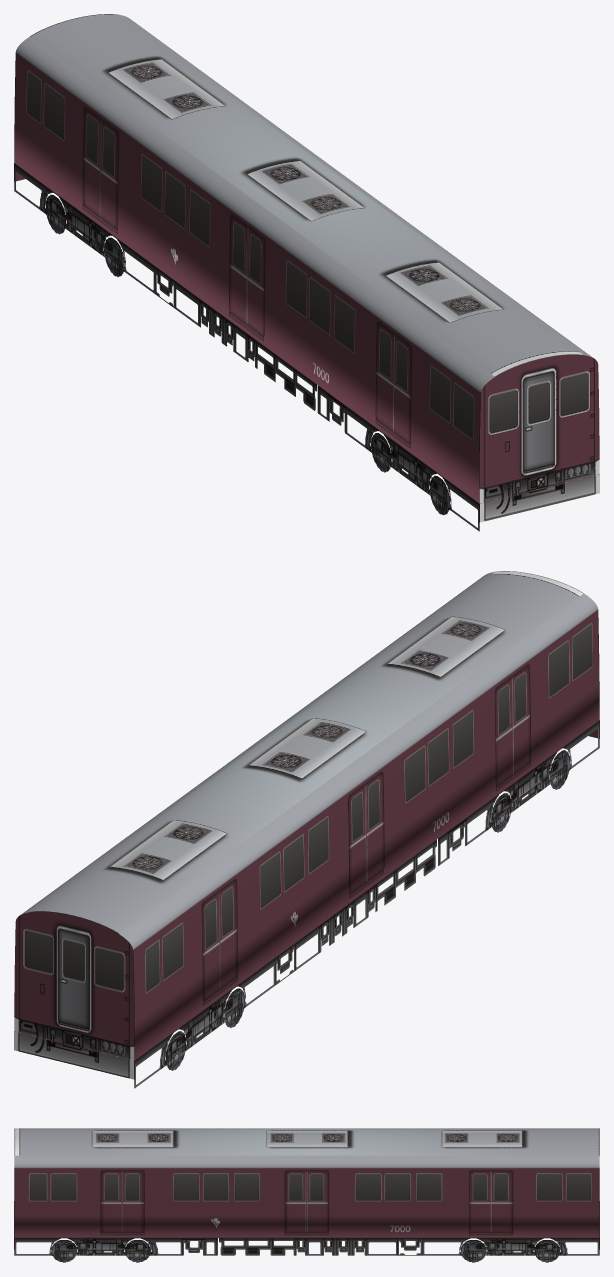
The model's file is car2.glb.
3 renders of one model, top to bottom at view 1: azimuth 30°, elevation 25°; view 2: azimuth 150°, elevation 25°; view 3: azimuth 270°, elevation 25°, orthographic. The views are drawn at different scales.
Visible parts, largest first — view 1: hankyu8000-car2; view 2: hankyu8000-car2; view 3: hankyu8000-car2.
Part boxes in pixels (x1,y1,x2,y2): hankyu8000-car2: (14,14,599,531); hankyu8000-car2: (14,571,599,1088); hankyu8000-car2: (14,1128,599,1262).
Bounding box in the file's own units: 2.75 × 3.7 × 18.47.
7 materials, 6 textured.
